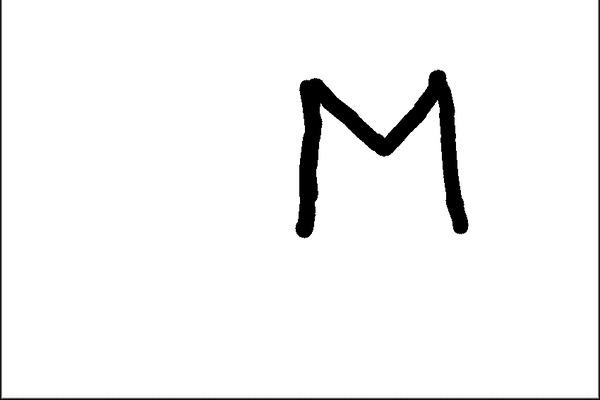M: (288, 67, 473, 235)
